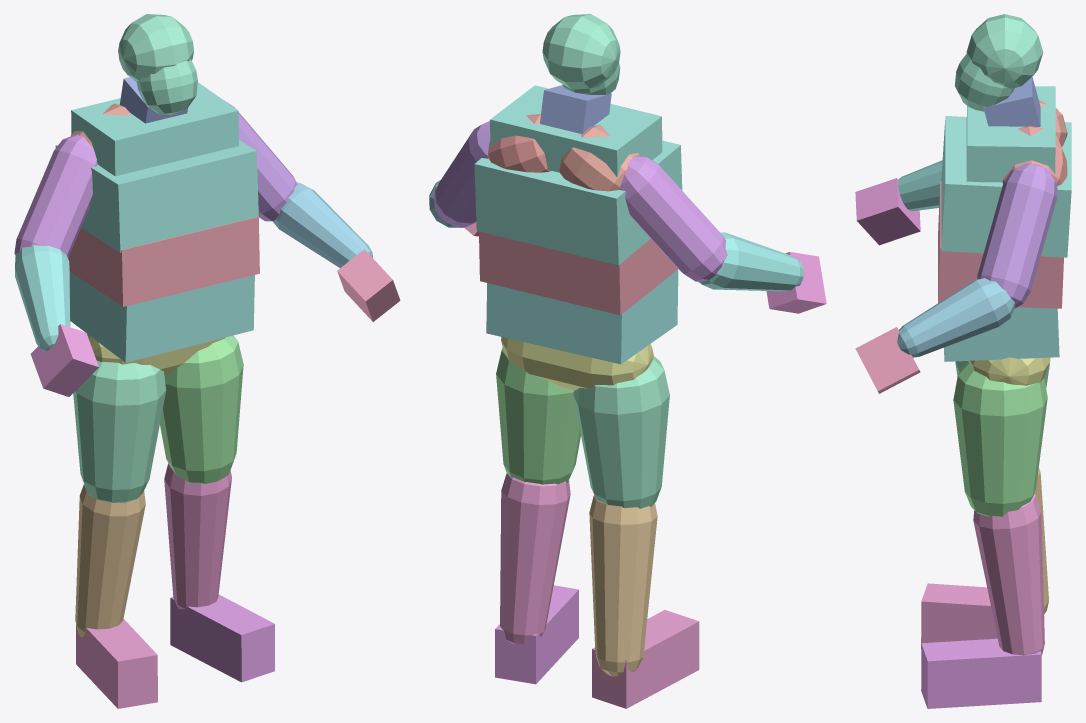
Rendered from player.glb.
3 renders of one model, left to right at view 1: azimuth 30°, elevation 25°; view 2: azimuth 150°, elevation 25°; view 3: azimuth 270°, elevation 25°, orthographic. The views are drawn at different scales.
Parts seen in each view (by area): view 1: spine_05, spine_04, thigh_r, spine_03, thigh_l, calf_r, calf_l, foot_l, head, upperarm_r, foot_r, lowerarm_r (+6 smaller); view 2: spine_05, thigh_r, spine_03, calf_r, spine_04, calf_l, thigh_l, upperarm_r, foot_r, head, foot_l, pelvis (+6 smaller); view 3: spine_05, thigh_l, calf_l, foot_l, upperarm_l, head, lowerarm_l, spine_03, foot_r, spine_04, hand_r, hand_l (+6 smaller).
Boxes of the visible parts, <box> form: spine_05: <box>55,82,258,252</box>; spine_04: <box>68,216,259,306</box>; thigh_r: <box>73,360,166,502</box>; spine_03: <box>69,272,254,362</box>; thigh_l: <box>160,335,243,483</box>; calf_r: <box>75,484,145,637</box>; calf_l: <box>164,463,231,609</box>; foot_l: <box>170,594,274,682</box>; head: <box>118,14,197,114</box>; upperarm_r: <box>14,134,97,257</box>; foot_r: <box>76,618,157,708</box>; lowerarm_r: <box>15,245,70,350</box>; spine_05: <box>474,85,682,265</box>; thigh_r: <box>573,356,669,508</box>; spine_03: <box>486,269,678,364</box>; calf_r: <box>589,495,657,676</box>; spine_04: <box>479,231,677,315</box>; calf_l: <box>500,472,570,645</box>; thigh_l: <box>496,348,580,484</box>; upperarm_r: <box>620,155,727,281</box>; foot_r: <box>592,610,699,708</box>; head: <box>542,14,620,94</box>; foot_l: <box>495,585,578,684</box>; pelvis: <box>501,337,653,390</box>; spine_05: <box>941,86,1071,257</box>; thigh_l: <box>953,361,1047,516</box>; calf_l: <box>973,494,1044,655</box>; foot_l: <box>921,638,1041,708</box>; upperarm_l: <box>977,163,1057,308</box>; head: <box>955,14,1043,111</box>; lowerarm_l: <box>897,278,1015,357</box>; spine_03: <box>944,307,1059,361</box>; foot_r: <box>921,583,997,648</box>; spine_04: <box>938,181,1063,308</box>; hand_r: <box>855,178,920,245</box>; hand_l: <box>855,327,920,393</box>.
Bounding box in the file's own units: 1.15 × 2 × 0.6005.
